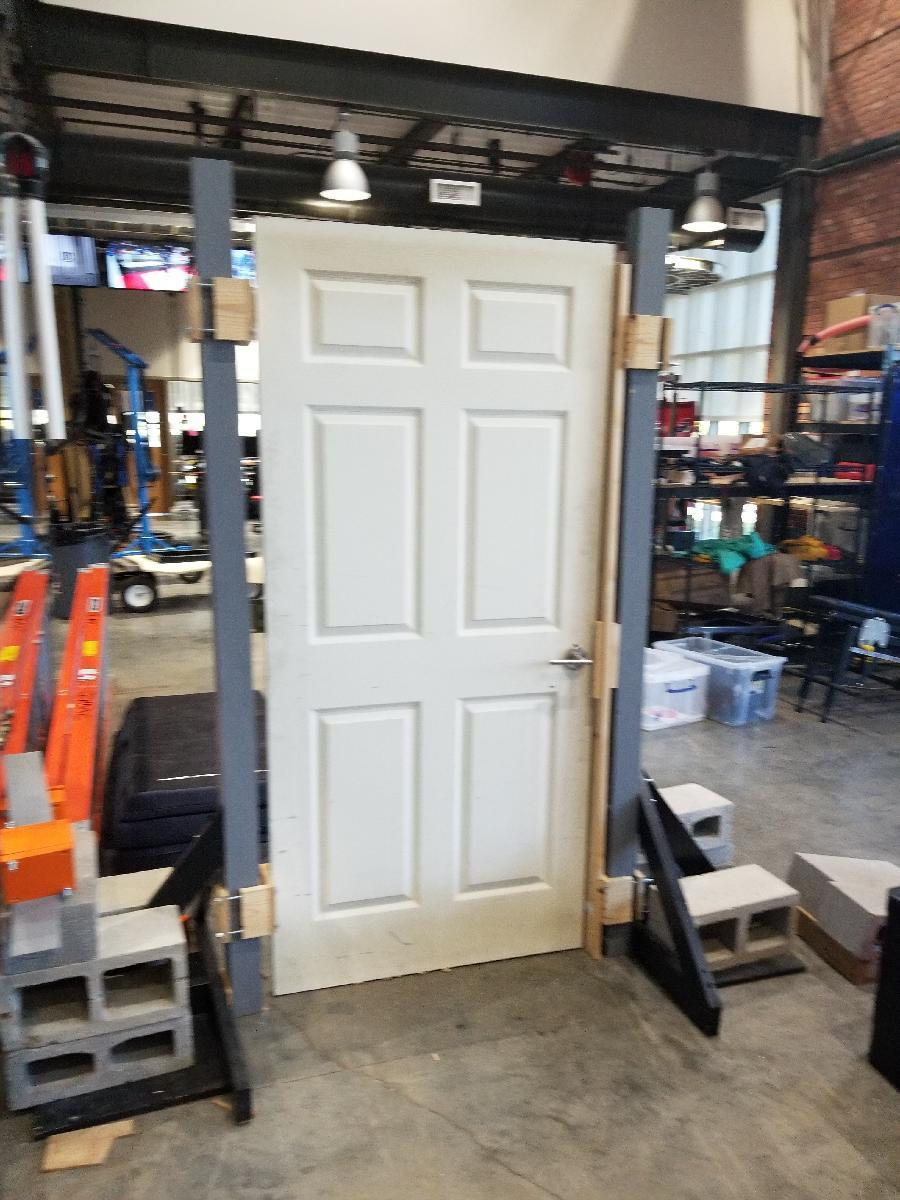door: (260, 208, 590, 979)
handle: (540, 644, 596, 674)
